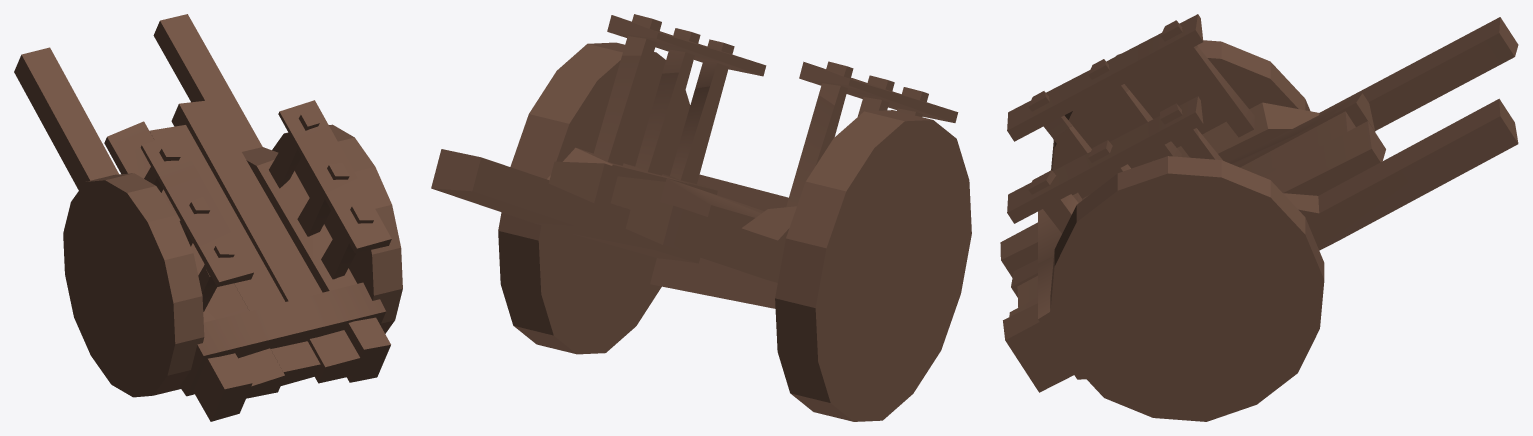
File: CartCrushed.fbx
3 views of the same model, side by side, from view 1: azimuth 30°, elevation 25°; view 2: azimuth 150°, elevation 25°; view 3: azimuth 270°, elevation 25° (orthographic). The views are drawn at different scales.
Parts seen in each view (by area): view 1: polySurface197, polySurface181, polySurface178, polySurface187, polySurface200, polySurface188, polySurface189, polySurface190, polySurface180, polySurface201, polySurface175, polySurface179 (+12 smaller); view 2: polySurface197, polySurface200, polySurface181, polySurface178, polySurface190, polySurface182, polySurface191, polySurface185, polySurface187, polySurface194, polySurface176, polySurface177 (+11 smaller); view 3: polySurface200, polySurface181, polySurface178, polySurface197, polySurface187, polySurface180, polySurface194, polySurface171, polySurface193, polySurface177, polySurface198, polySurface196 (+14 smaller).
Boxes of the visible parts, x1,y1,x2,y2 form: polySurface197: (63, 173, 204, 397); polySurface181: (153, 14, 312, 262); polySurface178: (14, 47, 214, 317); polySurface187: (171, 100, 287, 251); polySurface200: (272, 124, 402, 333); polySurface188: (257, 232, 359, 383); polySurface189: (179, 303, 292, 396); polySurface190: (282, 282, 385, 345); polySurface180: (306, 224, 390, 382); polySurface201: (234, 241, 320, 385); polySurface175: (193, 310, 252, 421); polySurface179: (176, 212, 284, 398); polySurface197: (775, 110, 971, 421); polySurface200: (498, 42, 690, 354); polySurface181: (431, 147, 690, 249); polySurface178: (625, 195, 796, 282); polySurface190: (650, 174, 788, 308); polySurface182: (593, 55, 651, 165); polySurface191: (635, 72, 688, 175); polySurface185: (670, 86, 721, 184); polySurface187: (548, 161, 654, 214); polySurface194: (786, 95, 842, 207); polySurface176: (660, 178, 760, 228); polySurface177: (610, 176, 665, 209); polySurface200: (1050, 156, 1324, 421); polySurface181: (1283, 98, 1518, 250); polySurface178: (1177, 17, 1518, 161); polySurface197: (1051, 40, 1310, 198); polySurface187: (1263, 121, 1385, 195); polySurface180: (1003, 303, 1073, 392); polySurface194: (1179, 47, 1254, 137); polySurface171: (1007, 155, 1096, 223); polySurface193: (1056, 45, 1145, 112); polySurface177: (1240, 111, 1355, 176); polySurface198: (1138, 14, 1203, 71); polySurface196: (1084, 122, 1156, 180).
Bounding box in the file's own units: 96.35 × 96.74 × 155.
